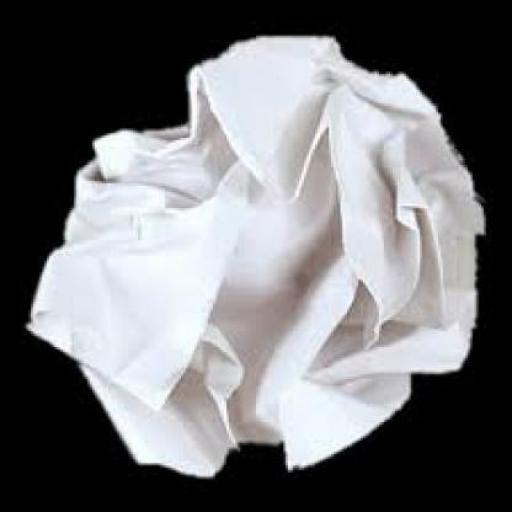paper: (20, 34, 483, 485)
